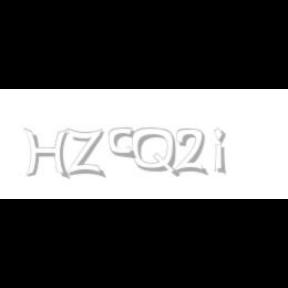2: (172, 128, 206, 176)
H: (24, 128, 70, 180)
Q: (132, 128, 178, 178)
Z: (66, 128, 104, 178)
c: (108, 128, 138, 160)
i: (214, 128, 230, 176)
